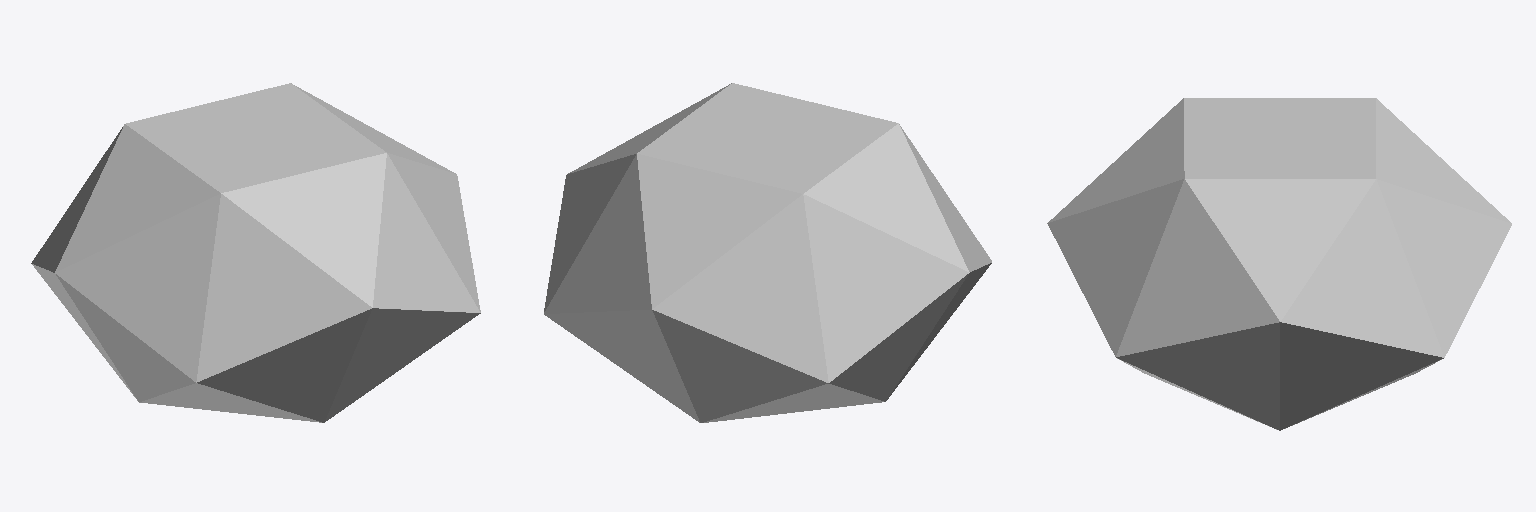
The model's file is SnubSquareAntiPrism.obj.
3 views of the same model, side by side, from view 1: azimuth 30°, elevation 25°; view 2: azimuth 150°, elevation 25°; view 3: azimuth 270°, elevation 25° (orthographic).
Parts seen in each view (by area): view 1: SnubSquareAntiPrism; view 2: SnubSquareAntiPrism; view 3: SnubSquareAntiPrism.
Boxes of the visible parts, x1,y1,x2,y2 form: SnubSquareAntiPrism: [31, 83, 480, 422]; SnubSquareAntiPrism: [544, 83, 991, 422]; SnubSquareAntiPrism: [1047, 98, 1511, 430].
Size of the model in its own units: 1.82 by 1.02 by 1.82.